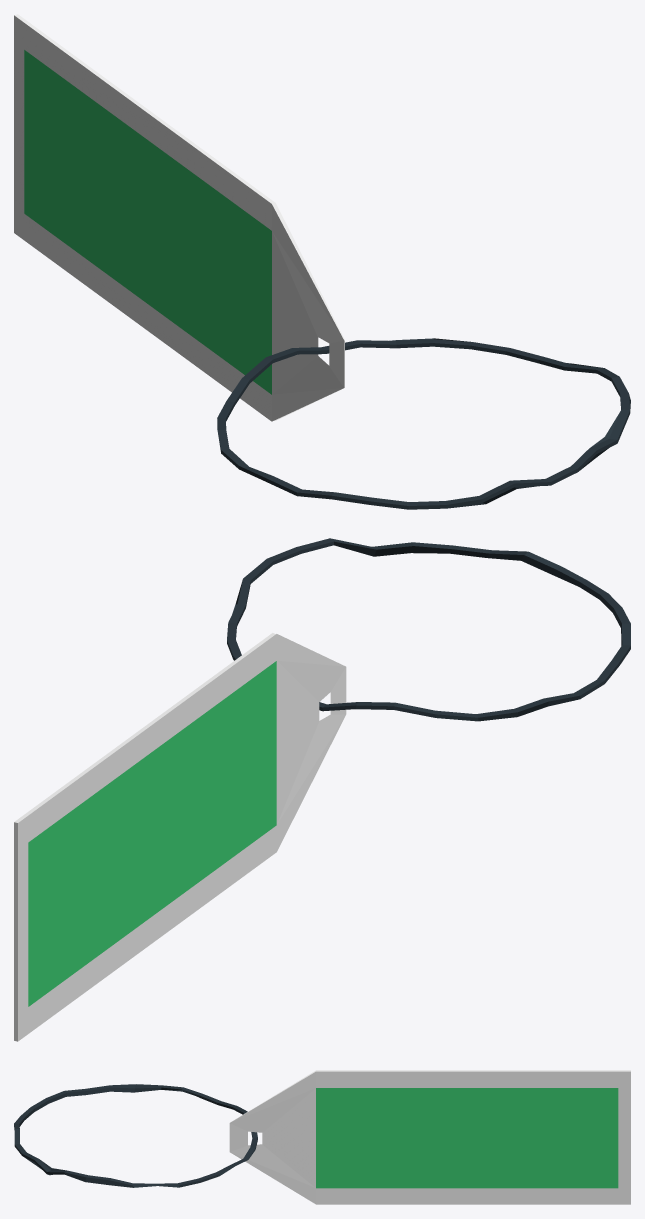
File: GreenFlatpointTag.fbx
The picture shows the model from 3 angles, top to bottom: view 1: azimuth 30°, elevation 25°; view 2: azimuth 150°, elevation 25°; view 3: azimuth 270°, elevation 25°; orthographic projection. The views are drawn at different scales.
Visible parts, largest first — view 1: RectangleFlatPointTag.002; view 2: RectangleFlatPointTag.002; view 3: RectangleFlatPointTag.002.
Boxes of the visible parts, x1,y1,x2,y2 form: RectangleFlatPointTag.002: (14, 14, 630, 509); RectangleFlatPointTag.002: (14, 538, 630, 1041); RectangleFlatPointTag.002: (14, 1070, 630, 1204).
Size of the model in its own units: 55.68 by 31.91 by 134.
